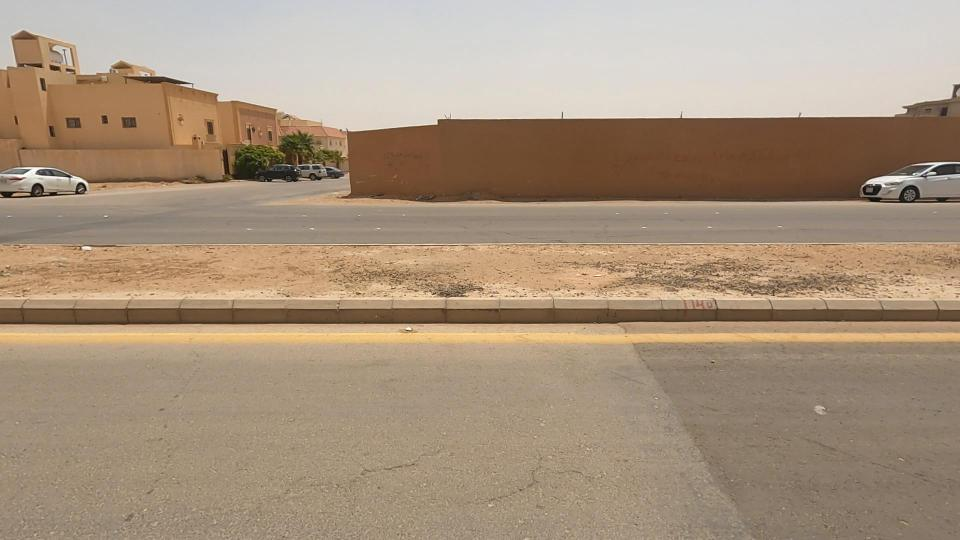CLUTTER_SIDEWALK: (0, 177, 408, 366), (473, 186, 960, 343), (263, 188, 620, 344)
